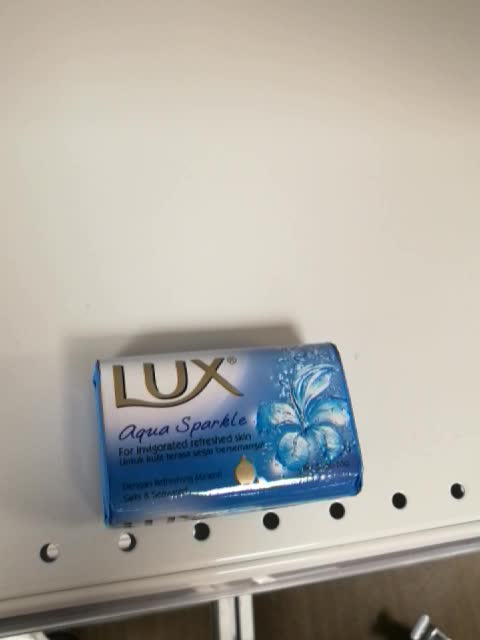soap: (89, 340, 367, 529)
